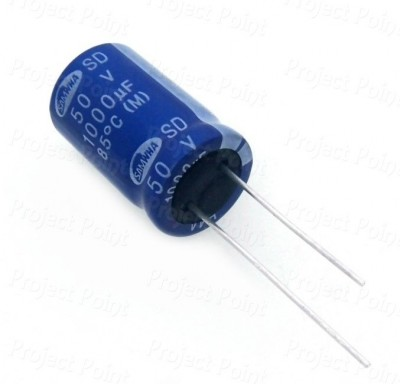capacitor: (27, 13, 336, 316)
